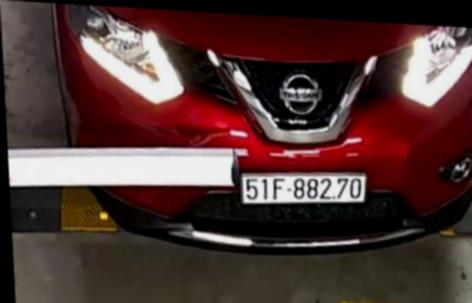License_Plate: (237, 163, 372, 213)
